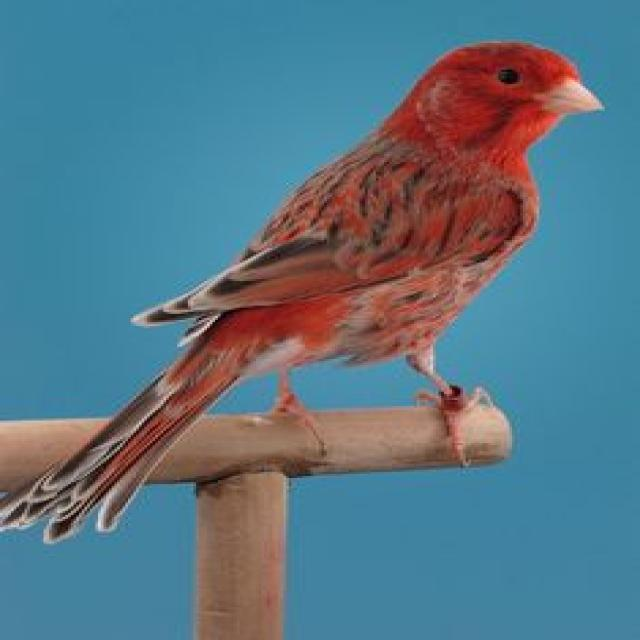Herbivorous: (0, 43, 605, 544)
